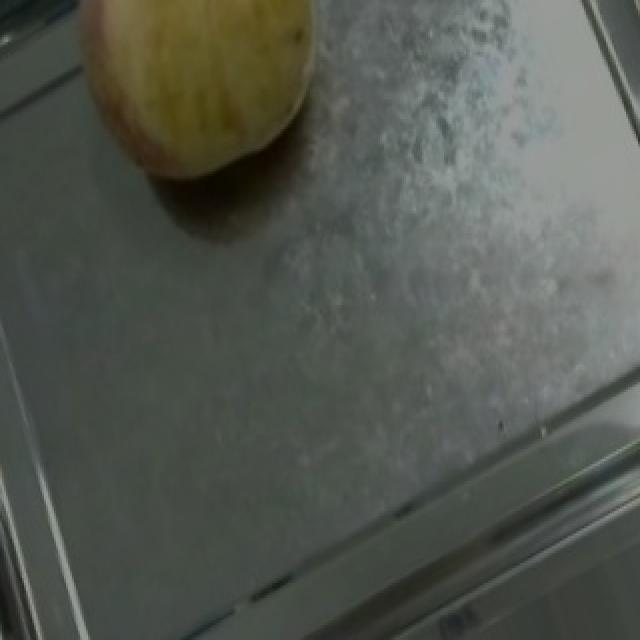Fruit: (32, 0, 350, 223)
